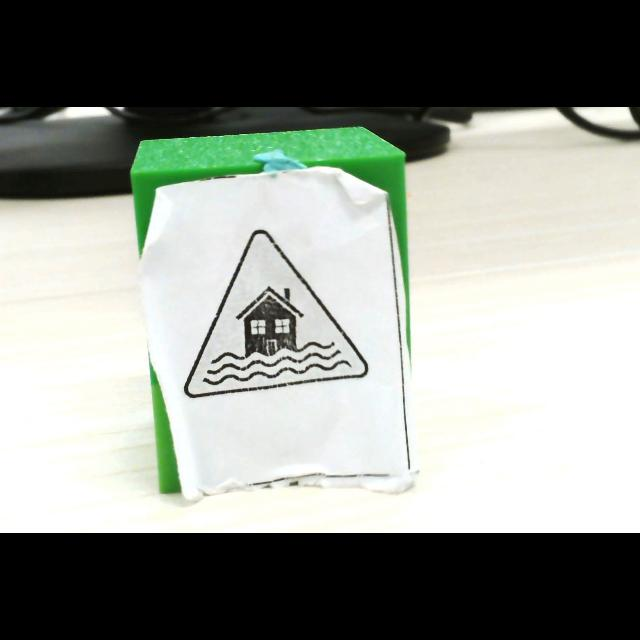Tsunami: (184, 230, 368, 398)
